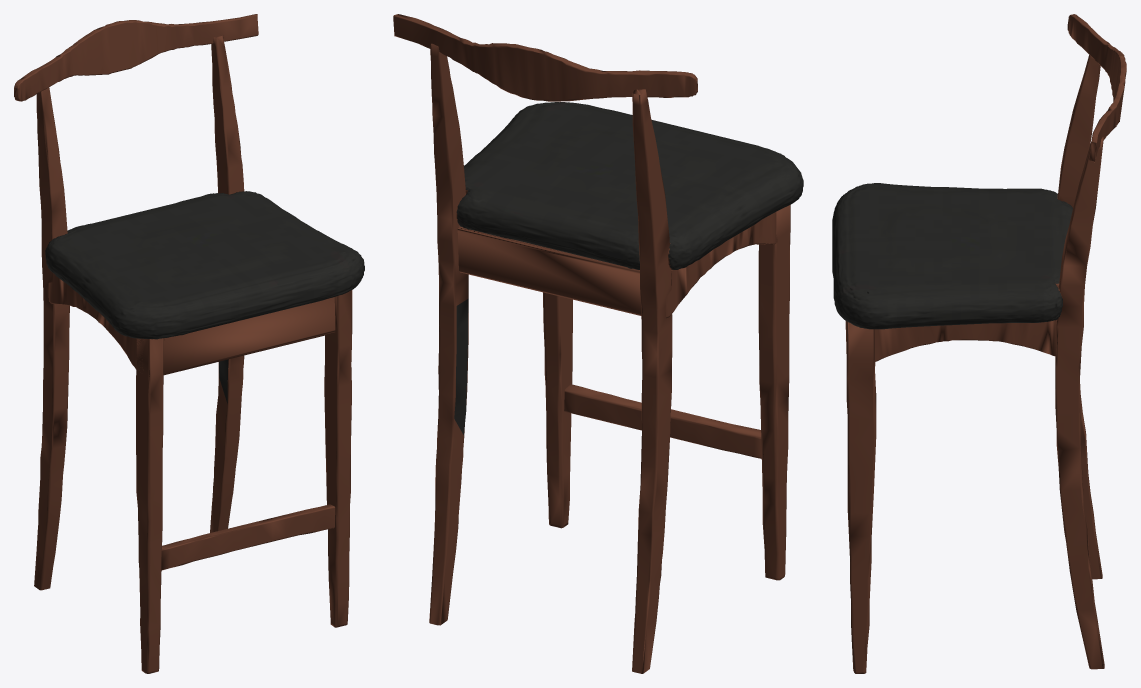
3 renders of one model, left to right at view 1: azimuth 30°, elevation 25°; view 2: azimuth 150°, elevation 25°; view 3: azimuth 270°, elevation 25°, orthographic. The views are drawn at different scales.
Visible parts, largest first — view 1: tripo_node_b50beefb-8df7-48ff-ac59-ade8786cb2f2; view 2: tripo_node_b50beefb-8df7-48ff-ac59-ade8786cb2f2; view 3: tripo_node_b50beefb-8df7-48ff-ac59-ade8786cb2f2.
Part boxes in pixels (x1,y1,x2,y2): tripo_node_b50beefb-8df7-48ff-ac59-ade8786cb2f2: (14,14,364,673); tripo_node_b50beefb-8df7-48ff-ac59-ade8786cb2f2: (393,14,803,673); tripo_node_b50beefb-8df7-48ff-ac59-ade8786cb2f2: (832,14,1126,673).
Size of the model in its own units: 0.47 by 0.94 by 0.45.
2 materials, 1 textured.
